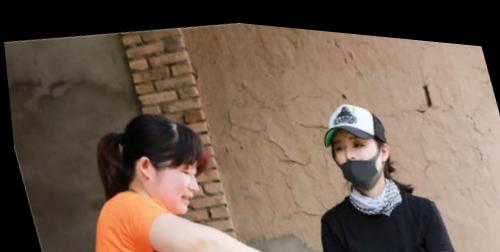NONE: (146, 153, 211, 215)
WRONG: (324, 118, 390, 184)
